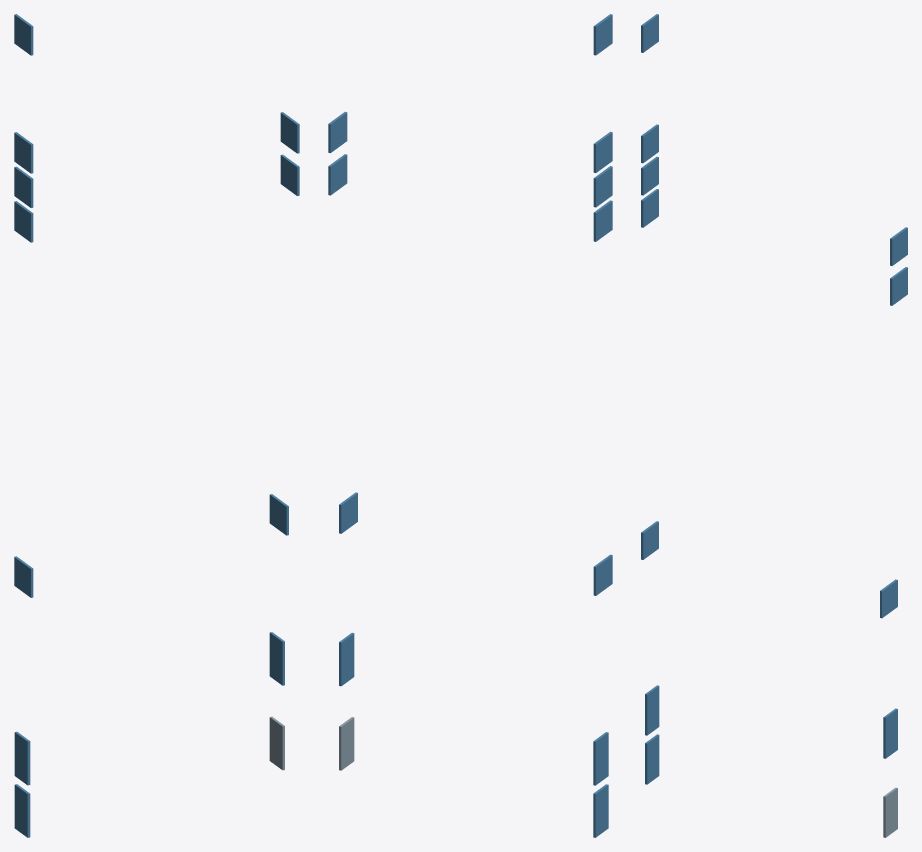
Rendered from windows.dae.
The picture shows the model from 3 angles, left to right: view 1: azimuth 30°, elevation 25°; view 2: azimuth 150°, elevation 25°; view 3: azimuth 330°, elevation 25°; orthographic projection. The views are drawn at different scales.
Visible parts, largest first — view 1: Cube.2551, Cube.2544, Cube.012, Cube.011, Cube.334, Cube.327, Cube.313, Cube.2920, Cube.1984, Cube.320, Cube.1991, Cube.1977; view 2: Cube.2544, Cube.2551, Cube.011, Cube.012, Cube.334, Cube.320, Cube.327, Cube.2920, Cube.1984, Cube.313, Cube.1991, Cube.1977; view 3: Cube.012, Cube.2551, Cube.2544, Cube.011, Cube.327, Cube.320, Cube.1977, Cube.334, Cube.313, Cube.2920, Cube.1991, Cube.1984.
Part boxes in pixels (box(x1,y1,x2,y2)): Cube.2551: box(14, 731, 30, 785); Cube.2544: box(14, 784, 30, 837); Cube.012: box(269, 716, 284, 770); Cube.011: box(269, 632, 284, 685); Cube.334: box(14, 14, 33, 55); Cube.327: box(14, 132, 33, 173); Cube.313: box(14, 201, 33, 242); Cube.2920: box(14, 556, 33, 597); Cube.1984: box(280, 112, 299, 153); Cube.320: box(14, 166, 33, 207); Cube.1991: box(280, 154, 299, 195); Cube.1977: box(269, 494, 288, 535); Cube.2544: box(593, 784, 608, 837); Cube.2551: box(593, 732, 608, 785); Cube.011: box(339, 632, 354, 686); Cube.012: box(339, 717, 354, 770); Cube.334: box(593, 14, 612, 55); Cube.320: box(593, 166, 612, 207); Cube.327: box(593, 131, 612, 172); Cube.2920: box(593, 554, 612, 595); Cube.1984: box(328, 112, 347, 153); Cube.313: box(593, 200, 612, 241); Cube.1991: box(328, 154, 347, 195); Cube.1977: box(339, 492, 357, 533); Cube.012: box(883, 787, 897, 837); Cube.2551: box(645, 685, 659, 735); Cube.2544: box(645, 734, 659, 784); Cube.011: box(883, 708, 897, 758); Cube.327: box(641, 124, 658, 163); Cube.320: box(641, 156, 658, 195); Cube.1977: box(880, 579, 897, 618); Cube.334: box(641, 14, 658, 52); Cube.313: box(641, 189, 658, 227); Cube.2920: box(641, 521, 658, 559); Cube.1991: box(890, 267, 907, 305); Cube.1984: box(890, 227, 907, 265).
Size of the model in its own units: 45.24 by 4.89 by 131.
